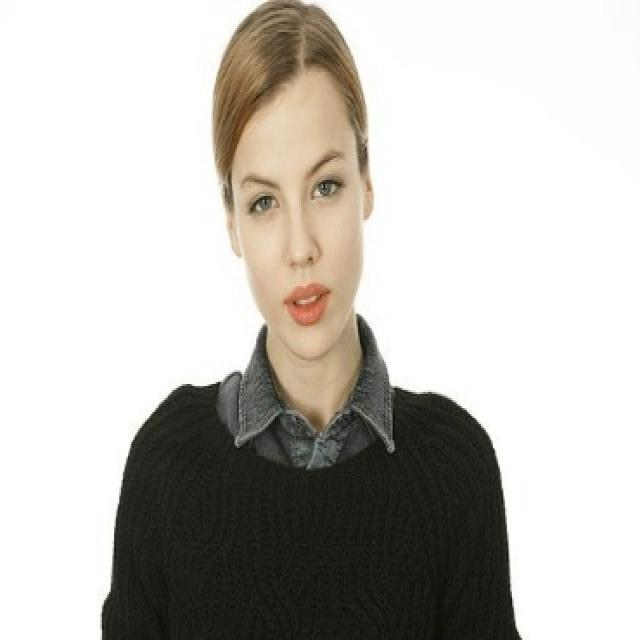adult: (84, 0, 518, 638)
